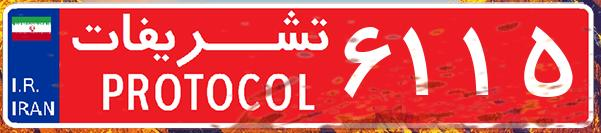1: (400, 20, 460, 115), (460, 20, 520, 115)
5: (520, 20, 580, 115)
6: (340, 20, 400, 115)
تشریفات: (60, 8, 340, 125)
